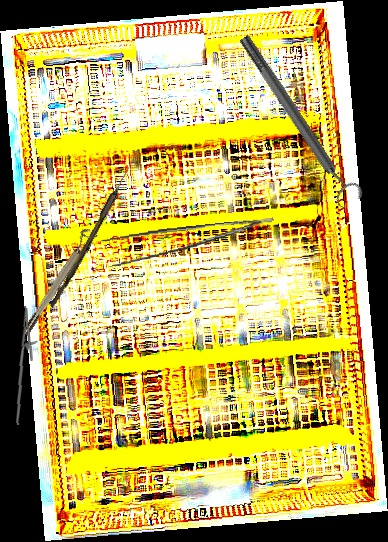Fixation Ring: (231, 28, 367, 212), (15, 226, 99, 337)
Needle Holder: (9, 305, 43, 426)
Surgical Spoon: (49, 148, 142, 310)
Tissue Forceps: (97, 217, 277, 268)
